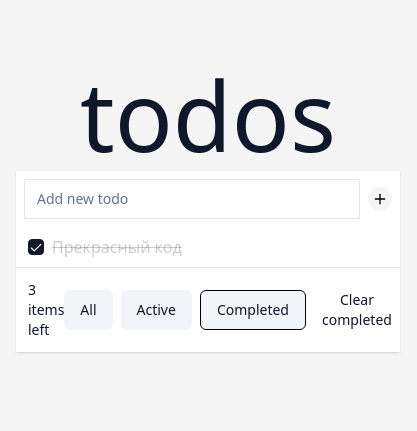
Test: Фильтрация Todo › Получение всех todo
Click the button with test id "filterAllButton": (88, 310) [64,290,113,330]
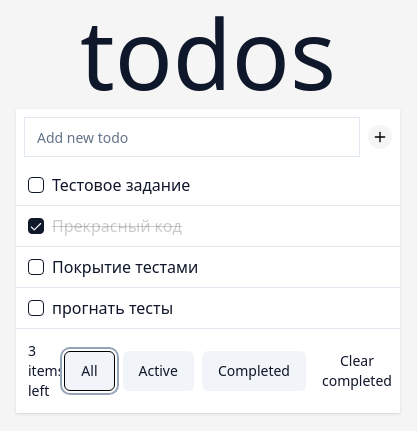
expect the text "Прекрасный код" is shown: met, box [52,218,182,234]
expect the text "Тестовое задание" is shown: met, box [52,177,190,193]
expect the text "Покрытие тестами" is shown: met, box [52,259,198,275]
